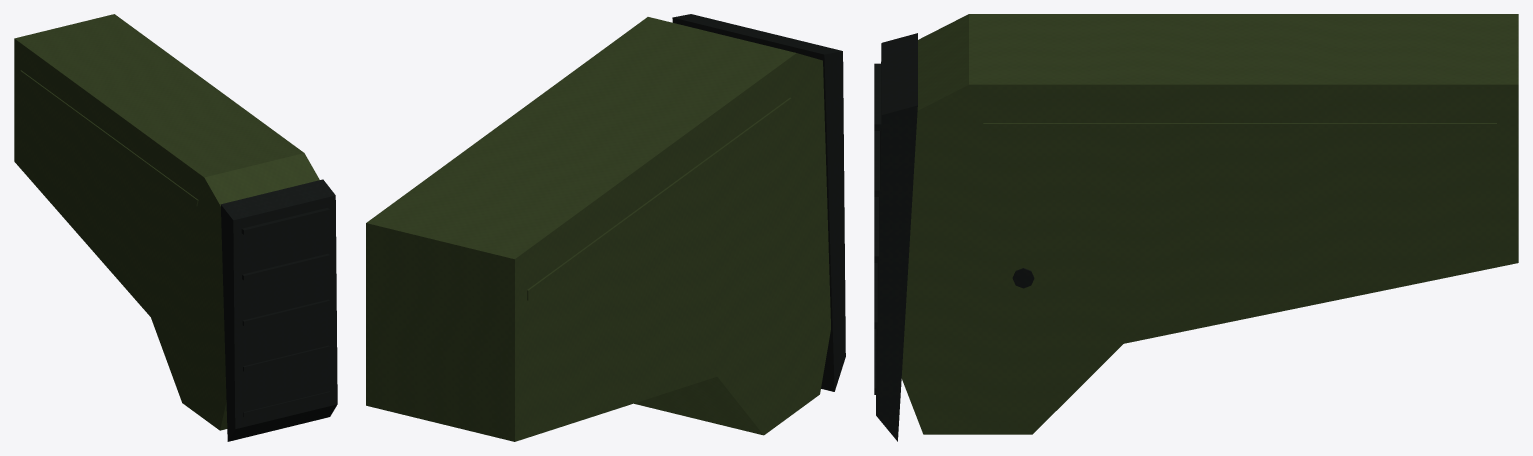
File: aug_stock.glb
The picture shows the model from 3 angles, left to right: view 1: azimuth 30°, elevation 25°; view 2: azimuth 150°, elevation 25°; view 3: azimuth 270°, elevation 25°; orthographic projection. The views are drawn at different scales.
Visible parts, largest first — view 1: stock__aug_stock_LOD0_RAID_Secondary_Original_olive, stock__aug_stock_LOD0_RAID_Secondary_Original_rubber, stock__aug_stock_LOD1_RAID_Secondary_Original_rubber, stock__aug_stock_LOD1_RAID_Secondary_Original_olive; view 2: stock__aug_stock_LOD0_RAID_Secondary_Original_olive, stock__aug_stock_LOD1_RAID_Secondary_Original_olive, stock__aug_stock_LOD1_RAID_Secondary_Original_rubber, stock__aug_stock_LOD0_RAID_Secondary_Original_rubber; view 3: stock__aug_stock_LOD0_RAID_Secondary_Original_olive, stock__aug_stock_LOD1_RAID_Secondary_Original_olive, stock__aug_stock_LOD0_RAID_Secondary_Original_rubber, stock__aug_stock_LOD1_RAID_Secondary_Original_rubber.
Part boxes in pixels (x1=…): stock__aug_stock_LOD0_RAID_Secondary_Original_olive: x1=17, y1=17, x2=315, y2=423; stock__aug_stock_LOD0_RAID_Secondary_Original_rubber: x1=221, y1=181, x2=335, y2=440; stock__aug_stock_LOD1_RAID_Secondary_Original_rubber: x1=220, y1=179, x2=337, y2=441; stock__aug_stock_LOD1_RAID_Secondary_Original_olive: x1=14, y1=14, x2=319, y2=430; stock__aug_stock_LOD0_RAID_Secondary_Original_olive: x1=372, y1=18, x2=830, y2=433; stock__aug_stock_LOD1_RAID_Secondary_Original_olive: x1=366, y1=17, x2=830, y2=441; stock__aug_stock_LOD1_RAID_Secondary_Original_rubber: x1=672, y1=14, x2=845, y2=391; stock__aug_stock_LOD0_RAID_Secondary_Original_rubber: x1=675, y1=16, x2=844, y2=388; stock__aug_stock_LOD0_RAID_Secondary_Original_olive: x1=902, y1=17, x2=1511, y2=427; stock__aug_stock_LOD1_RAID_Secondary_Original_olive: x1=901, y1=14, x2=1518, y2=434; stock__aug_stock_LOD0_RAID_Secondary_Original_rubber: x1=874, y1=35, x2=1034, y2=434; stock__aug_stock_LOD1_RAID_Secondary_Original_rubber: x1=876, y1=33, x2=917, y2=441.
Size of the model in its own units: 0.095 by 0.216 by 0.354.
2 materials, 2 textured.
